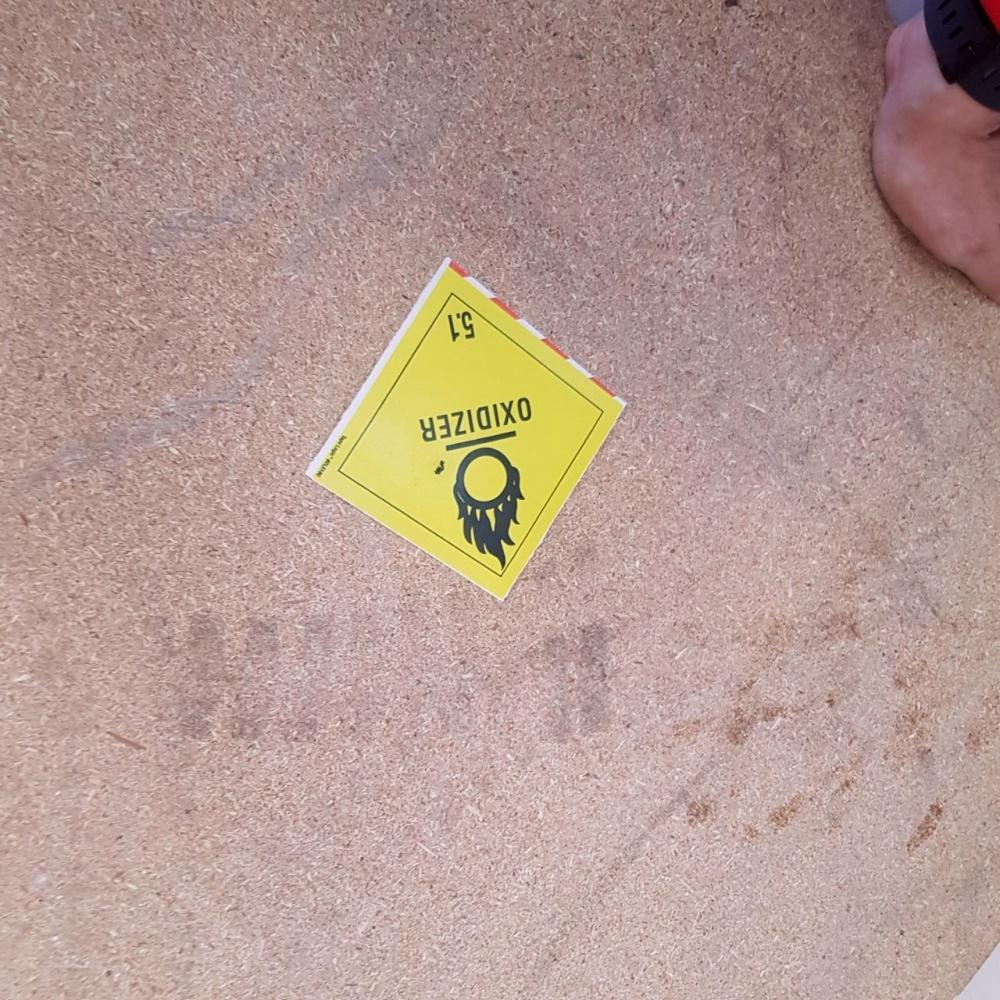oxidizer: (294, 252, 630, 610)
